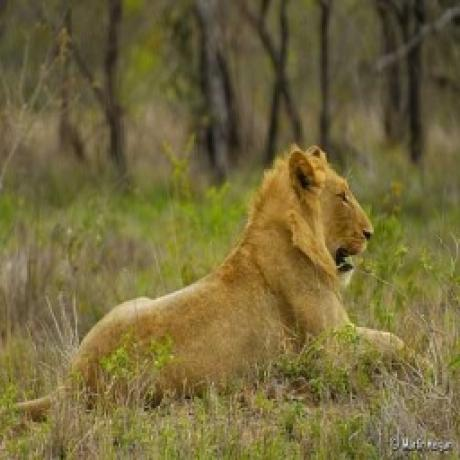Lion: (0, 141, 406, 414)
